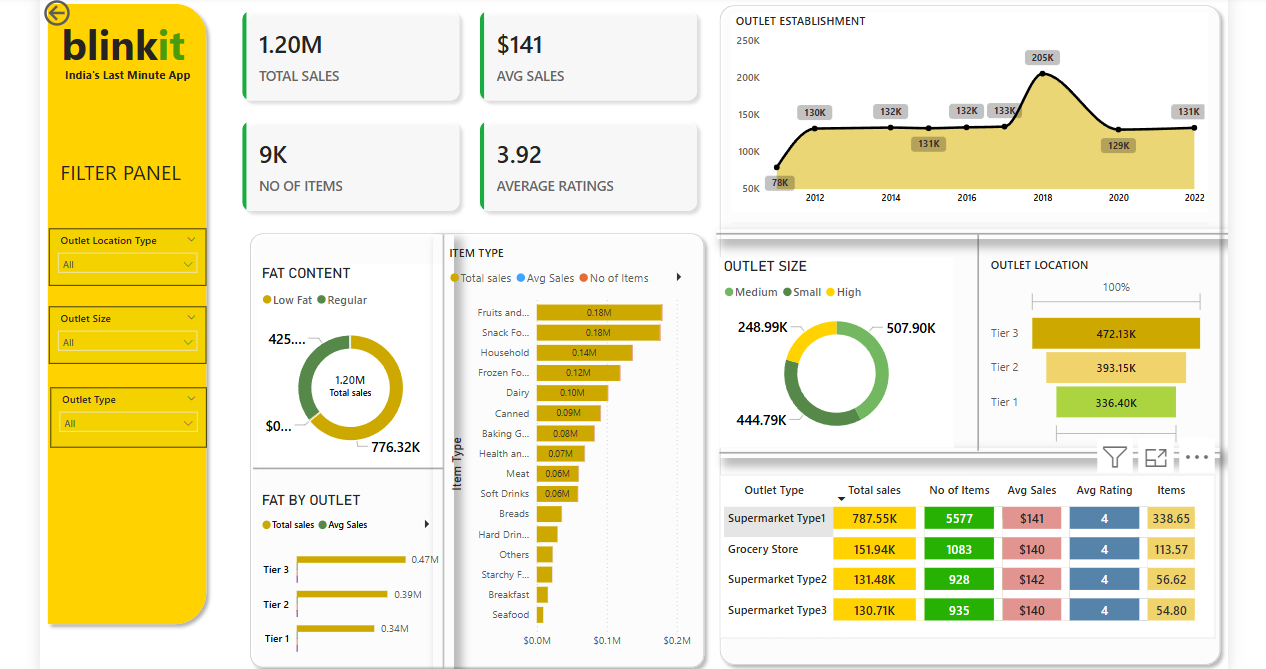

The dashboard page shown, as its layout file describes it:
{"tool":"powerbi","page":{"name":"Page 1","canvas":[1400,800],"ordinal":0},"visuals":[{"type":"shape","box":[0,0,205,749.4],"z":0},{"type":"textbox","box":[10.6,17.7,175,74.2],"z":1000},{"type":"textbox","box":[10.6,77.8,185.6,28.3],"z":2000},{"type":"cardVisual","fields":{"Data":["BlinkIT Grocery Data.Total sales","BlinkIT Grocery Data.Avg Sales","BlinkIT Grocery Data.No of Items","BlinkIT Grocery Data.Avg Rating"]},"box":[220.9,0,570.9,270.4],"z":3000},{"type":"shape","box":[238.6,270.4,553.2,530.2],"z":4000},{"type":"donutChart","title":"FAT CONTENT","fields":{"Y":["BlinkIT Grocery Data.Total sales","BlinkIT Grocery Data.Avg Sales","BlinkIT Grocery Data.No of Items","BlinkIT Grocery Data.Avg Rating"],"Category":["BlinkIT Grocery Data.Item Fat Content"]},"box":[256.3,316.4,219.2,240.4],"z":5000},{"type":"cardVisual","fields":{"Data":["BlinkIT Grocery Data.Total sales"]},"box":[302.2,420.6,127.2,76],"z":6000},{"type":"actionButton","box":[0,0,100,40],"z":7000},{"type":"clusteredBarChart","title":"FAT BY OUTLET","fields":{"Y":["BlinkIT Grocery Data.Total sales","BlinkIT Grocery Data.Avg Sales","BlinkIT Grocery Data.No of Items","BlinkIT Grocery Data.Avg Rating"],"Category":["BlinkIT Grocery Data.Outlet Location Type"]},"box":[256.3,583.2,219.2,212.1],"z":8000},{"type":"shape","box":[251,549.6,224.5,14.1],"z":9000},{"type":"shape","box":[463,281,24.7,514.3],"z":10000},{"type":"barChart","title":"ITEM TYPE","fields":{"Y":["BlinkIT Grocery Data.Total sales","BlinkIT Grocery Data.Avg Sales","BlinkIT Grocery Data.No of Items","BlinkIT Grocery Data.Avg Rating"],"Category":["BlinkIT Grocery Data.Item Type"]},"box":[477.2,293.4,295.1,484.3],"z":11000},{"type":"shape","box":[814.7,254.5,562,26.5],"z":12000},{"type":"shape","box":[791.8,1.8,608,795.3],"z":13000},{"type":"lineChart","title":"OUTLET ESTABLISHMENT","fields":{"Category":["BlinkIT Grocery Data.Outlet Establishment Year"],"Y":["BlinkIT Grocery Data.Total sales"]},"box":[814.7,19.4,562,235.1],"z":14000},{"type":"shape","box":[800.6,532,590.3,12.4],"z":15000},{"type":"donutChart","title":"OUTLET SIZE","fields":{"Y":["BlinkIT Grocery Data.Total sales"],"Category":["BlinkIT Grocery Data.Outlet Size"]},"box":[800.6,307.5,275.7,224.5],"z":16000},{"type":"shape","box":[1095.8,281,19.4,254.5],"z":17000},{"type":"funnel","title":"OUTLET LOCATION","fields":{"Y":["Sum(BlinkIT Grocery Data.Sales)"],"Category":["BlinkIT Grocery Data.Outlet Location Type"]},"box":[1115.2,307.5,261.6,242.1],"z":18000},{"type":"shape","box":[797.1,273.9,602.7,12.4],"z":19000},{"type":"pivotTable","fields":{"Rows":["BlinkIT Grocery Data.Outlet Type"],"Values":["BlinkIT Grocery Data.Total sales","BlinkIT Grocery Data.No of Items","BlinkIT Grocery Data.Avg Sales","BlinkIT Grocery Data.Avg Rating","Sum(BlinkIT Grocery Data.Item Visibility)"]},"box":[800.6,563.8,585,192.6],"z":20000},{"type":"slicer","fields":{"Values":["BlinkIT Grocery Data.Outlet Location Type"]},"box":[10.6,273.9,185.6,67.2],"z":21000},{"type":"slicer","fields":{"Values":["BlinkIT Grocery Data.Outlet Size"]},"box":[10.6,365.8,185.6,67.2],"z":22000},{"type":"slicer","fields":{"Values":["BlinkIT Grocery Data.Outlet Type"]},"box":[12.4,461.3,183.8,70.7],"z":23000},{"type":"textbox","box":[12.4,185.6,173.2,46],"z":24000}]}

Visuals, with their boxes on the page's 1400x800 design canvas (x1, y1, x2, y2). These are canvas units, not pixel positions in the 1266x669 screenshot, which may show the page scaled, cropped or inside an application window:
shape: left=0, top=0, right=205, bottom=749
textbox: left=11, top=18, right=186, bottom=92
textbox: left=11, top=78, right=196, bottom=106
cardVisual - BlinkIT Grocery Data.Total sales x BlinkIT Grocery Data.Avg Sales: left=221, top=0, right=792, bottom=270
shape: left=239, top=270, right=792, bottom=801
"FAT CONTENT" donutChart: left=256, top=316, right=476, bottom=557
cardVisual - BlinkIT Grocery Data.Total sales: left=302, top=421, right=429, bottom=497
actionButton: left=0, top=0, right=100, bottom=40
"FAT BY OUTLET" clusteredBarChart: left=256, top=583, right=476, bottom=795
shape: left=251, top=550, right=476, bottom=564
shape: left=463, top=281, right=488, bottom=795
"ITEM TYPE" barChart: left=477, top=293, right=772, bottom=778
shape: left=815, top=254, right=1377, bottom=281
shape: left=792, top=2, right=1400, bottom=797
"OUTLET ESTABLISHMENT" lineChart: left=815, top=19, right=1377, bottom=254
shape: left=801, top=532, right=1391, bottom=544
"OUTLET SIZE" donutChart: left=801, top=308, right=1076, bottom=532
shape: left=1096, top=281, right=1115, bottom=536
"OUTLET LOCATION" funnel: left=1115, top=308, right=1377, bottom=550
shape: left=797, top=274, right=1400, bottom=286
pivotTable - BlinkIT Grocery Data.Outlet Type x BlinkIT Grocery Data.Total sales: left=801, top=564, right=1386, bottom=756
slicer - BlinkIT Grocery Data.Outlet Location Type: left=11, top=274, right=196, bottom=341
slicer - BlinkIT Grocery Data.Outlet Size: left=11, top=366, right=196, bottom=433
slicer - BlinkIT Grocery Data.Outlet Type: left=12, top=461, right=196, bottom=532
textbox: left=12, top=186, right=186, bottom=232
